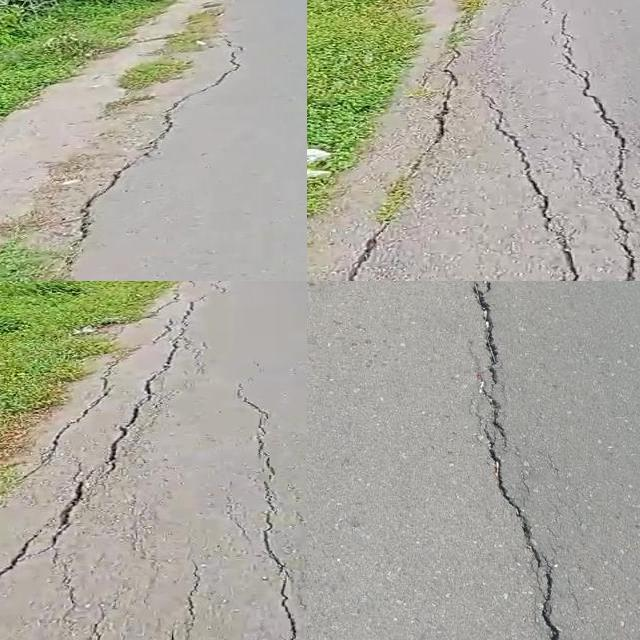Memanjang: (0, 299, 208, 599), (61, 22, 259, 281), (459, 281, 583, 640), (532, 0, 640, 281), (481, 95, 588, 281), (236, 392, 307, 640), (155, 559, 219, 640)
